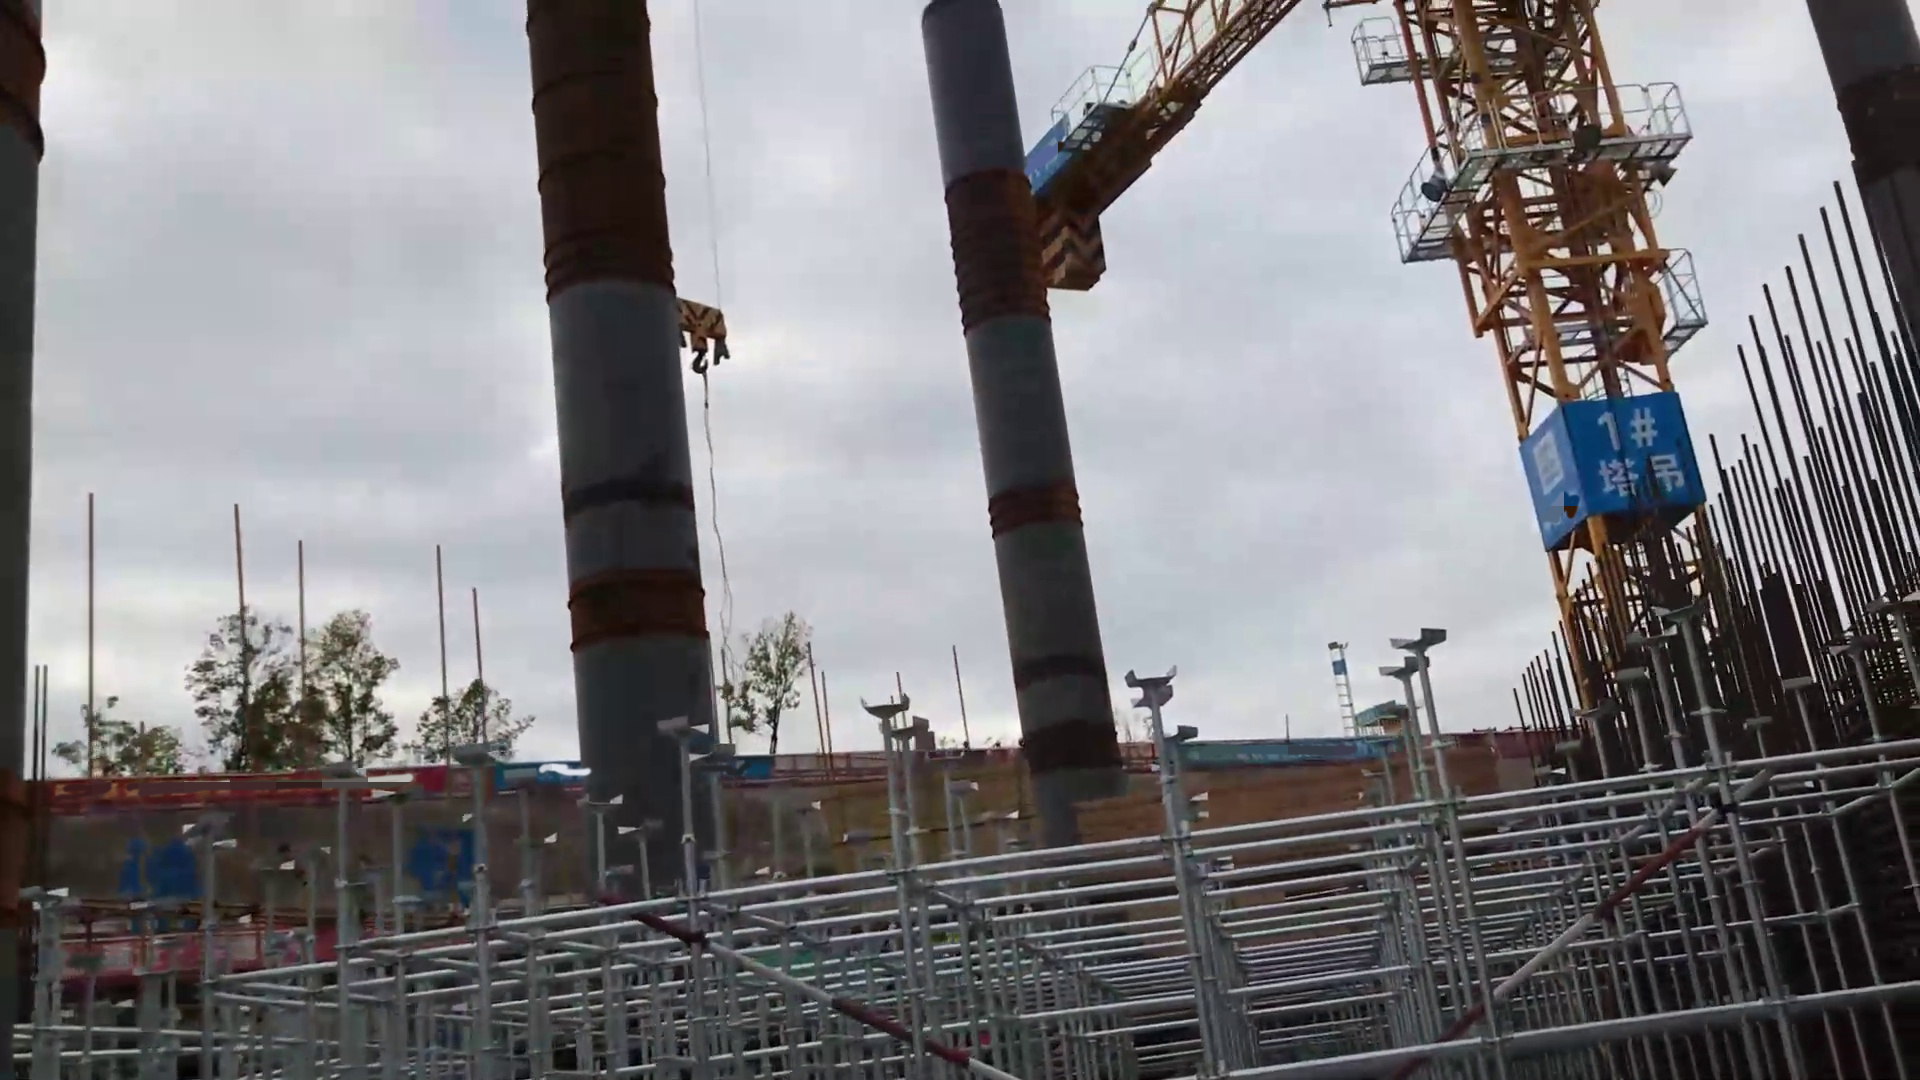hook: (676, 295, 732, 381)
